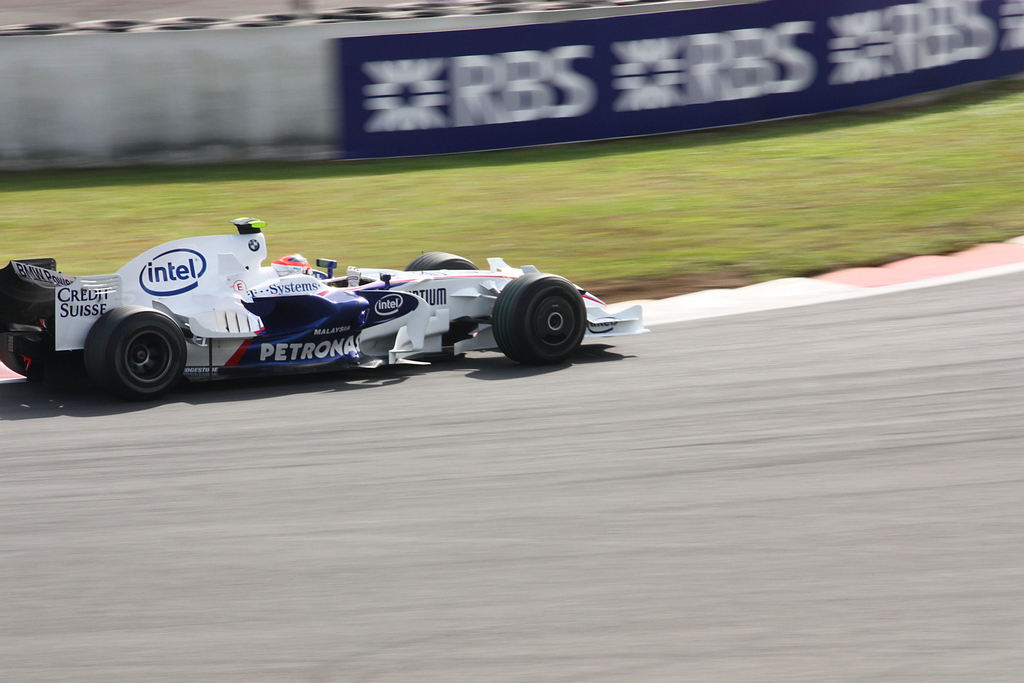Car: (18, 212, 635, 394)
